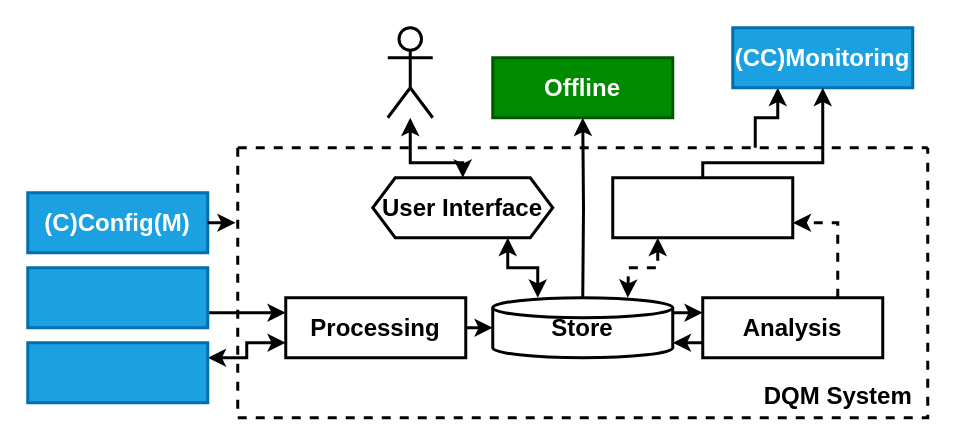
This 954x444 diagram has some shape labels left out. Here are the shapes that lost their labels. From the top down, the box of each, then its label:
(610, 176, 794, 238): Alerts
(26, 266, 208, 328): Triggered Data
(26, 340, 208, 404): Run Registry
